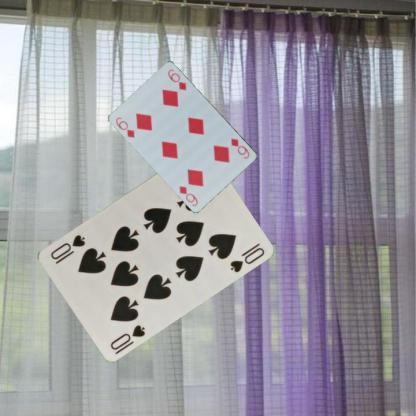10s: (107, 322, 147, 352)
6d: (113, 114, 136, 139), (228, 136, 251, 160)
